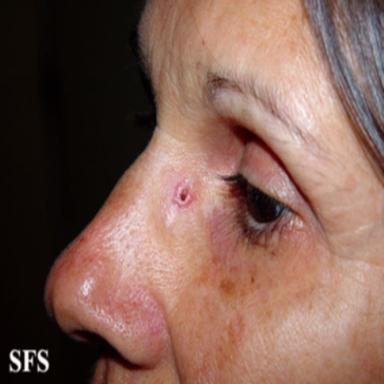basal-cell-carcinoma: (173, 176, 197, 211)
